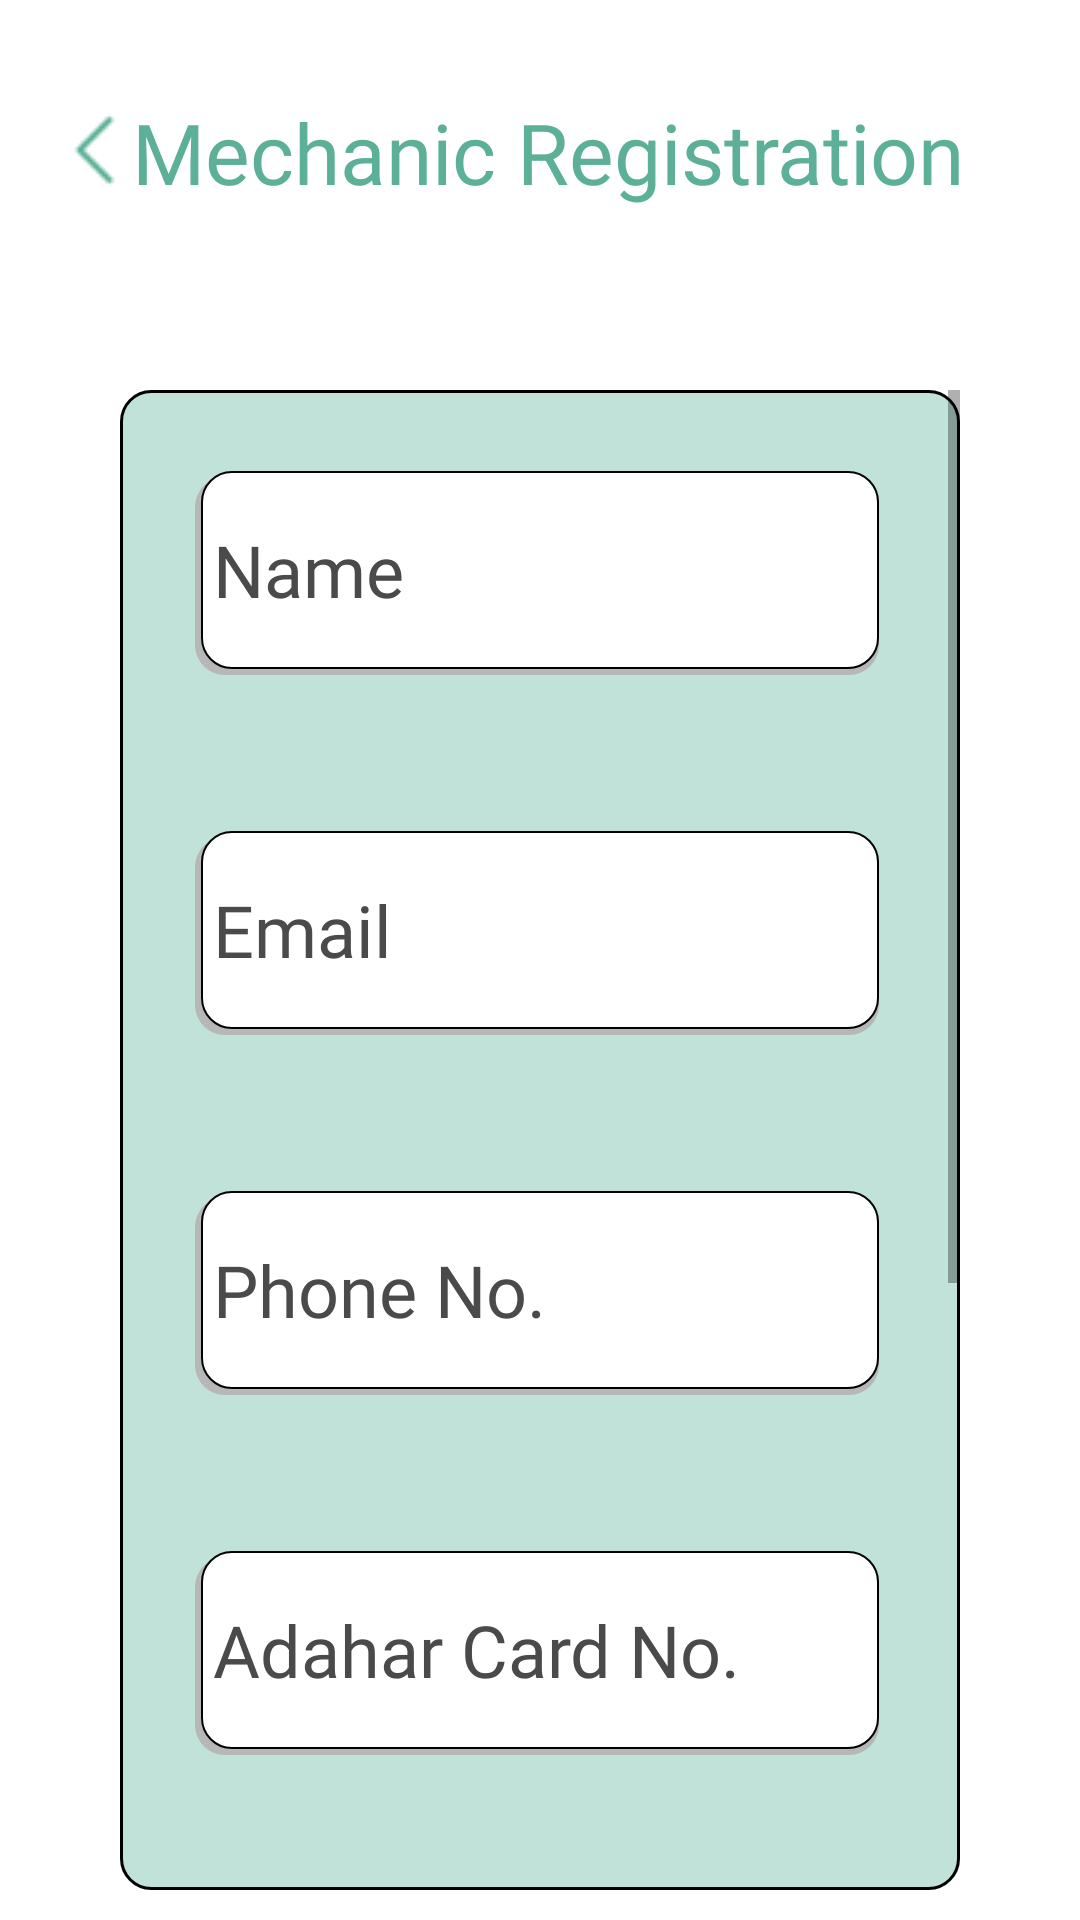

Where icons sit on this 1080x1920 app screen, as (x1, y1, x2, y2):
back: (75, 116, 114, 184)
